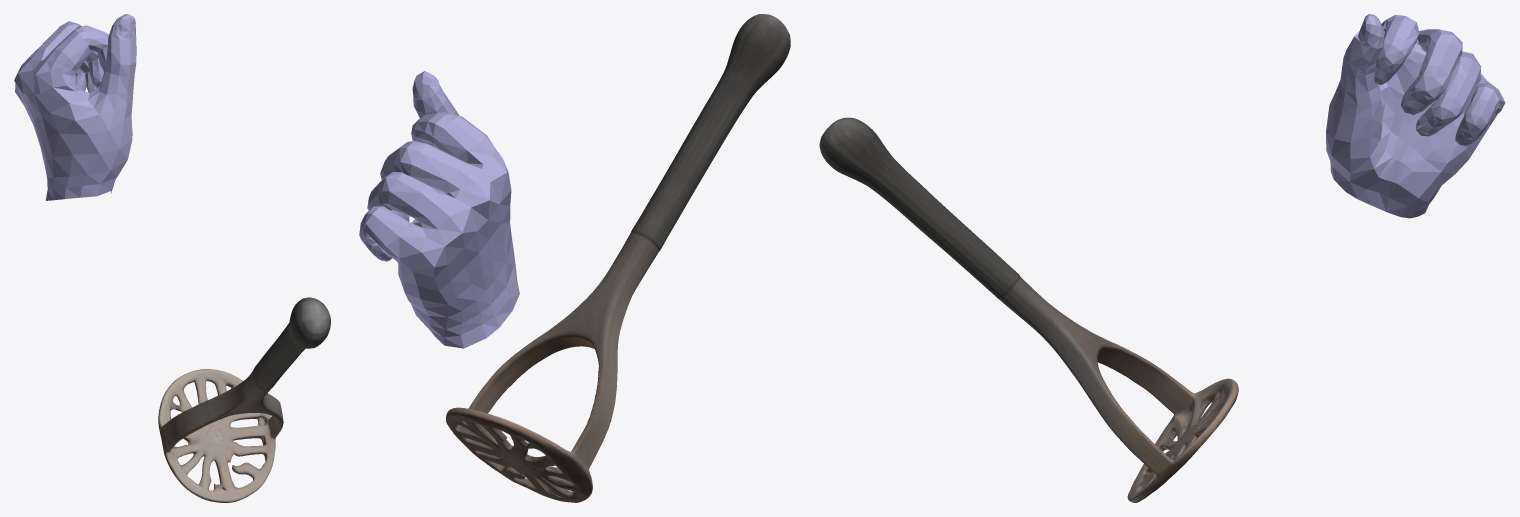
Rendered from frame_0065_source_000065_hand_object.glb.
The picture shows the model from 3 angles, left to right: view 1: azimuth 30°, elevation 25°; view 2: azimuth 150°, elevation 25°; view 3: azimuth 270°, elevation 25°; orthographic projection. The views are drawn at different scales.
Parts seen in each view (by area): view 1: world; view 2: world; view 3: world.
Boxes of the visible parts, x1,y1,x2,y2 form: world: (14, 14, 330, 502); world: (359, 14, 790, 502); world: (819, 14, 1505, 502).
Bounding box in the file's own units: 0.0975 × 0.2756 × 0.3579.
